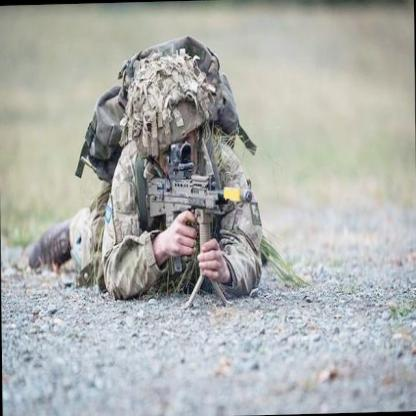rifle: (143, 156, 257, 248)
